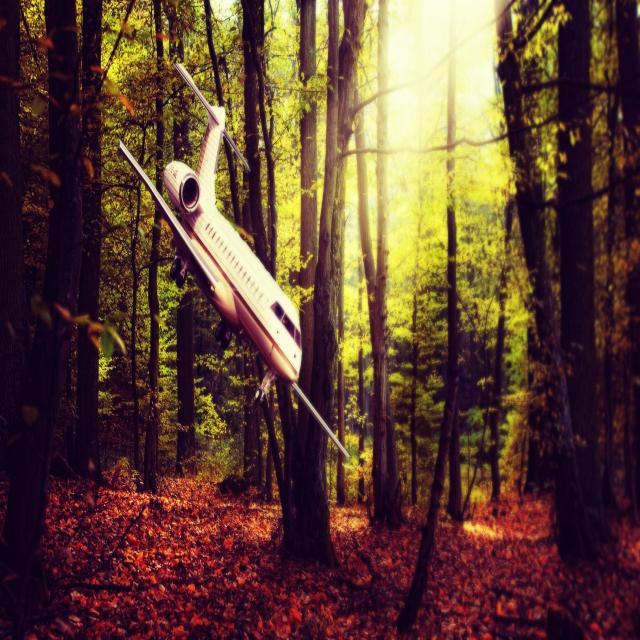airplane: (117, 61, 350, 459)
